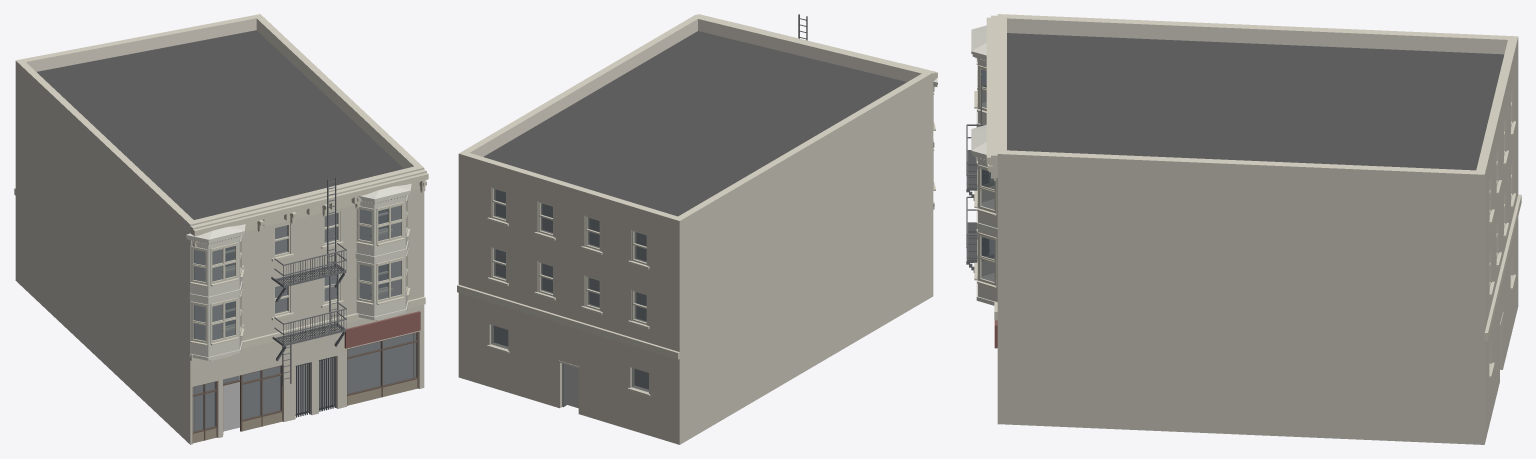
Rendered from exterior.glb.
3 views of the same model, side by side, from view 1: azimuth 30°, elevation 25°; view 2: azimuth 150°, elevation 25°; view 3: azimuth 270°, elevation 25° (orthographic). The views are drawn at different scales.
Parts seen in each view (by area): view 1: shell, roof, shadow-proxy, bay-glazing-hyb, glazing, bay-windows-hyb, trim, storefront, fire-escape, sign-bands, frames; view 2: shell, roof, glazing, trim, shadow-proxy, frames; view 3: shell, roof, trim, bay-windows-hyb, bay-glazing-hyb, fire-escape, frames.
Boxes of the visible parts, left/top/right/bottom form: shell: left=15, top=14, right=424, bottom=444; roof: left=37, top=30, right=403, bottom=219; shadow-proxy: left=194, top=206, right=412, bottom=431; bay-glazing-hyb: left=190, top=195, right=410, bottom=345; glazing: left=193, top=209, right=416, bottom=431; bay-windows-hyb: left=186, top=183, right=411, bottom=360; trim: left=14, top=169, right=428, bottom=360; storefront: left=192, top=332, right=418, bottom=443; fire-escape: left=271, top=177, right=346, bottom=385; sign-bands: left=344, top=311, right=420, bottom=348; frames: left=225, top=209, right=387, bottom=327; shell: left=458, top=14, right=933, bottom=444; roof: left=483, top=31, right=906, bottom=216; glazing: left=491, top=189, right=648, bottom=392; trim: left=457, top=14, right=937, bottom=396; shadow-proxy: left=494, top=189, right=648, bottom=408; frames: left=491, top=187, right=647, bottom=324; shell: left=997, top=14, right=1518, bottom=444; roof: left=1007, top=33, right=1504, bottom=170; trim: left=986, top=15, right=1521, bottom=378; bay-windows-hyb: left=971, top=25, right=997, bottom=305; bay-glazing-hyb: left=974, top=58, right=996, bottom=288; fire-escape: left=966, top=69, right=988, bottom=272; frames: left=1489, top=90, right=1512, bottom=286.
Size of the model in its own units: 13.93 by 11.63 by 19.98.
